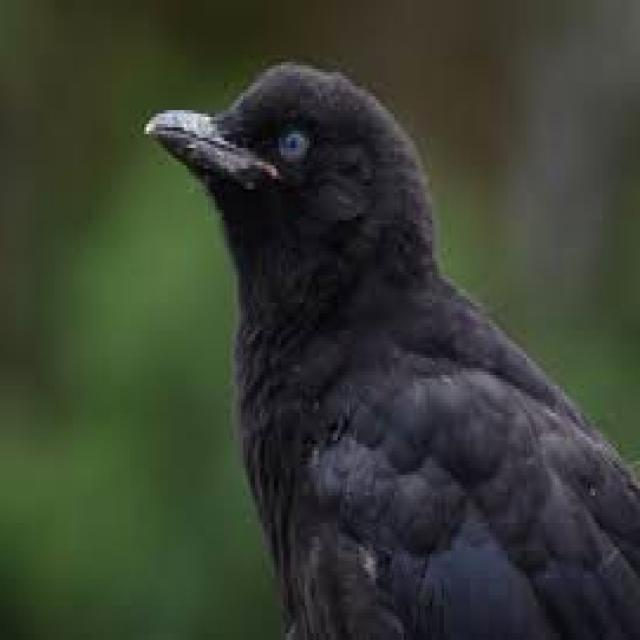crow: (146, 62, 640, 637)
